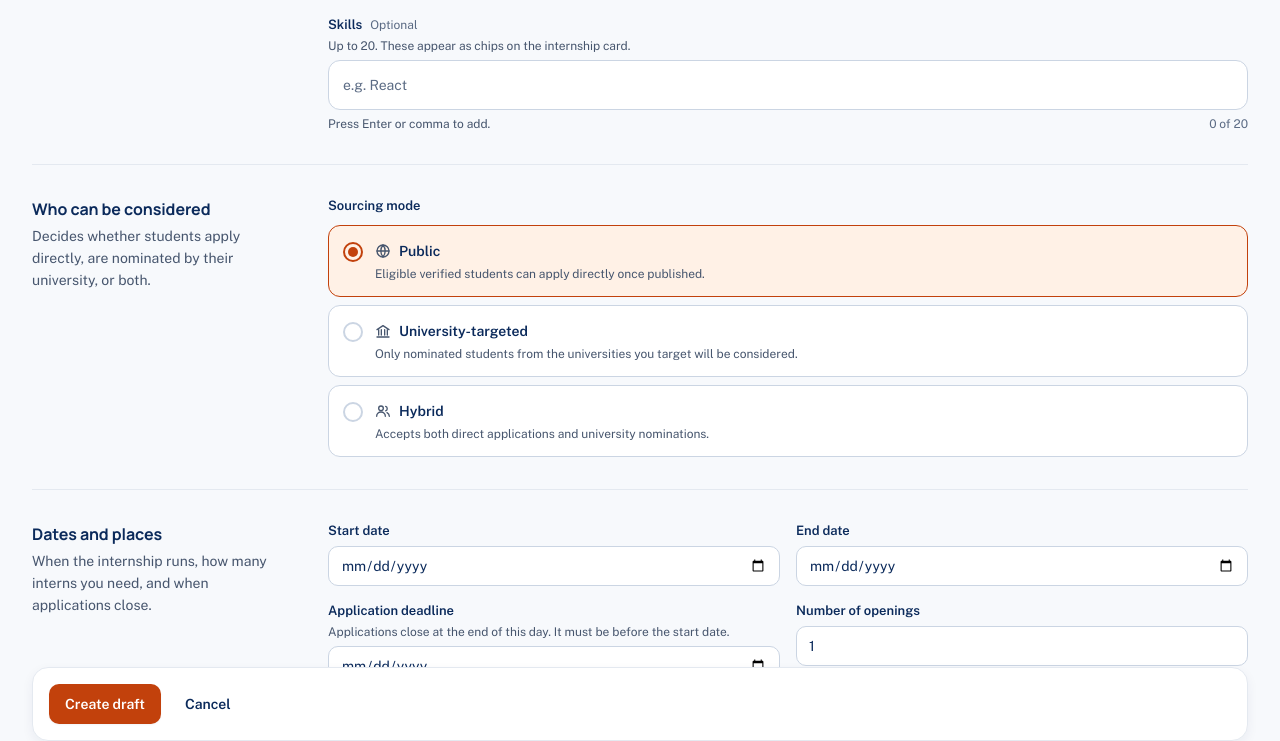
Test: CreateOpportunityPage › says targets are chosen later, and relaxes the deadline only for a targeted internship
(page scrolled)
Check: the text "choose which universities and departments" is not shown
Click the radio button labelled "University-targeted": (463, 331) [328,305,1248,377]
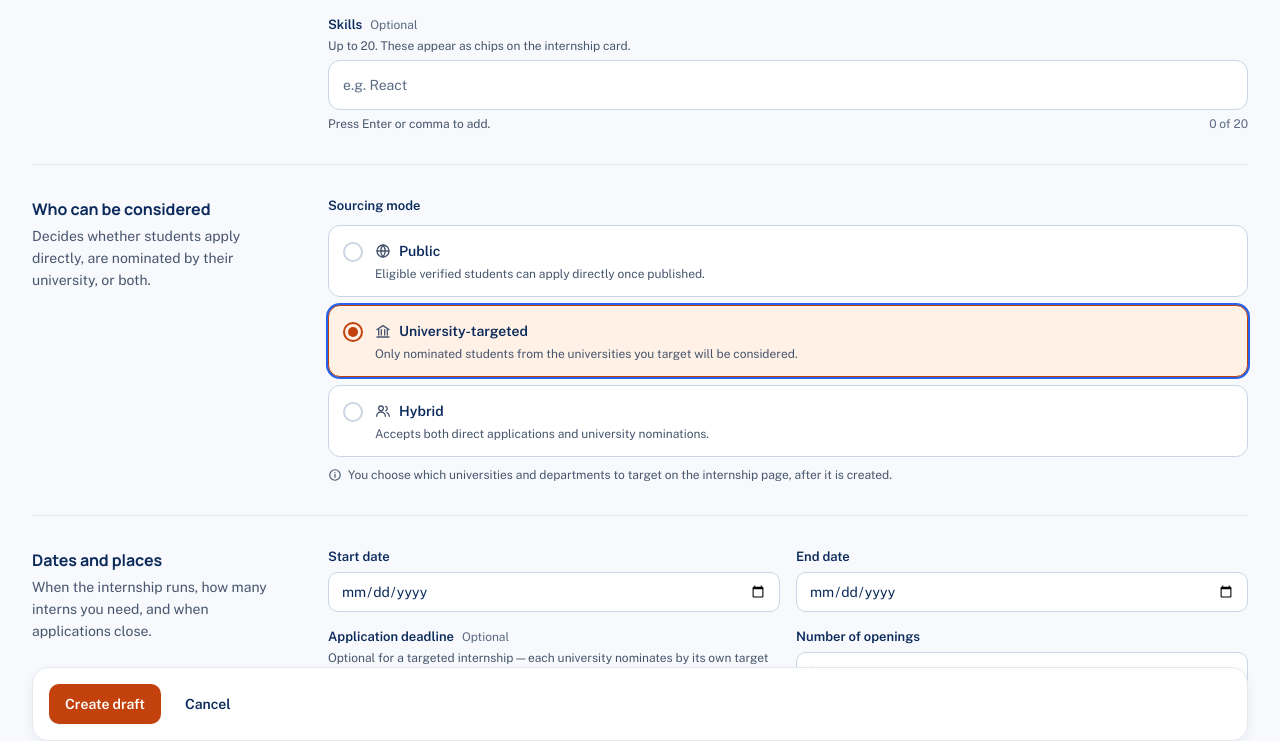
Check: the radio button labelled "University-targeted" is checked, box [328,305,1248,377]
Check: the text "choose which universities and departments" is shown, box [348,468,892,482]
